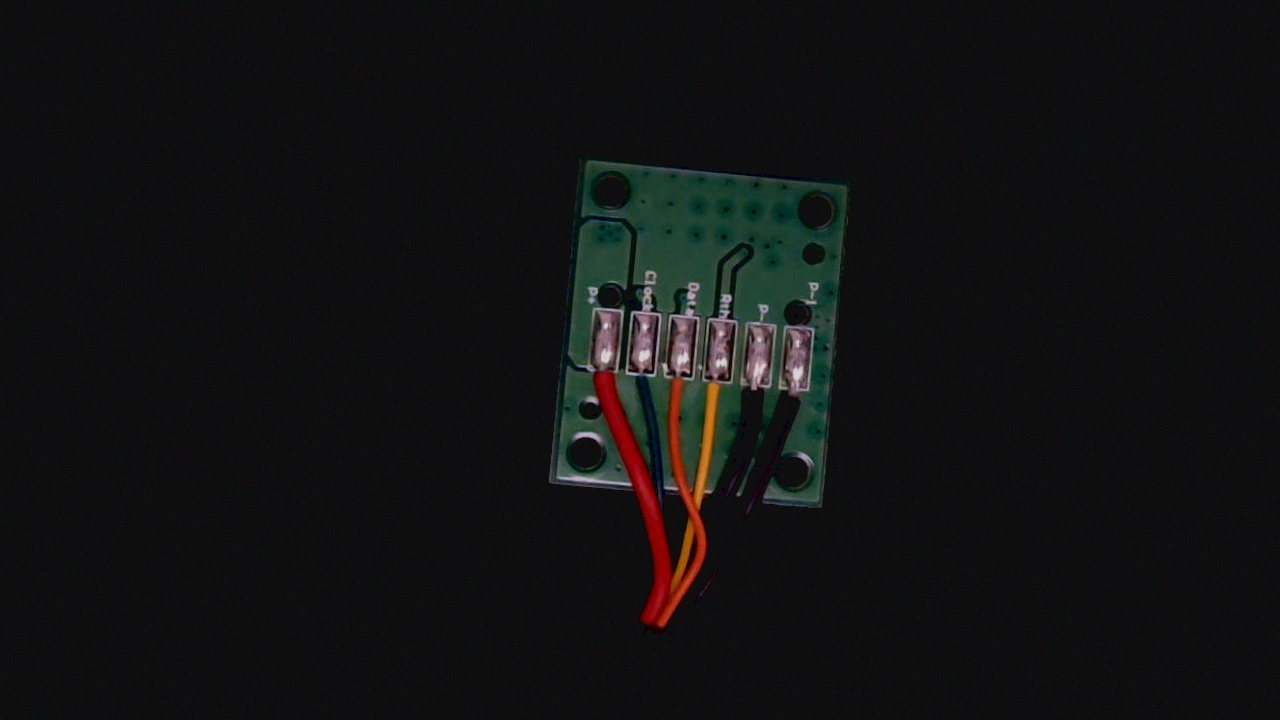Black: (733, 366, 774, 442)
Black1: (779, 371, 814, 442)
Green: (624, 356, 657, 419)
Orange: (660, 359, 698, 434)
Red: (585, 353, 621, 422)
Yellow: (693, 363, 734, 440)
